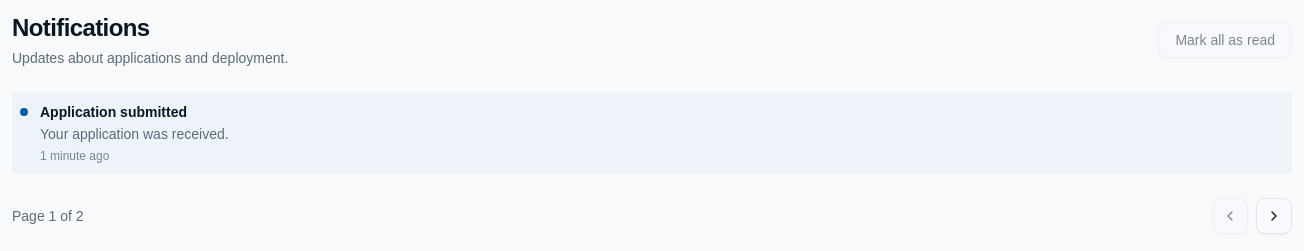
Test: NotificationsPage › paginates to the next page when requested
Click the button named "Next page".
click(1274, 216)  # box [1256,198,1292,234]
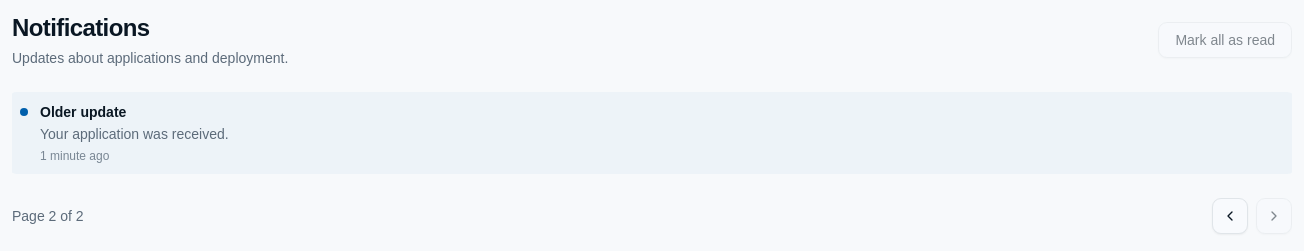
Expected: the text "Older update" is shown, [40,104,126,120]
Expected: the text "Page 2 of 2" is shown, [12,206,84,226]
